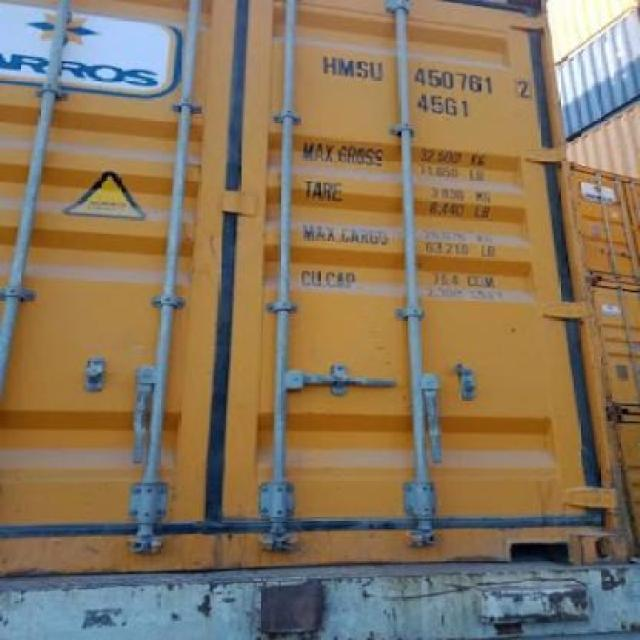ISO: (417, 92, 472, 118)
container_number: (324, 56, 520, 91)
